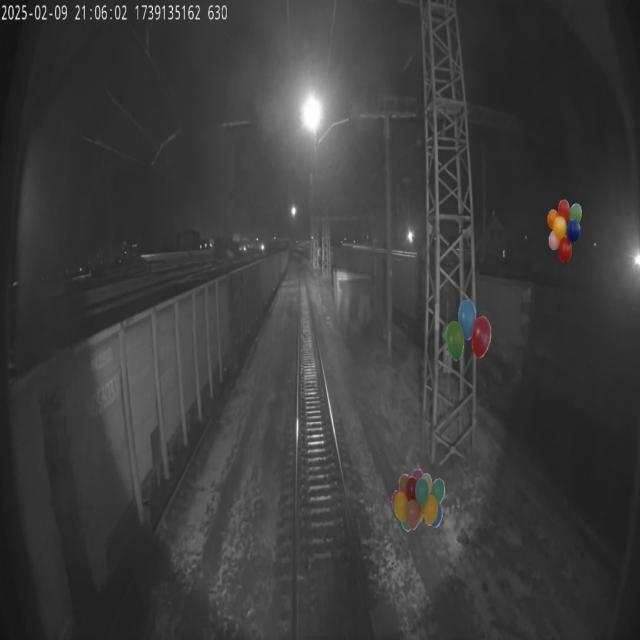balloon: (391, 468, 445, 532), (446, 298, 492, 362), (546, 199, 582, 263)
